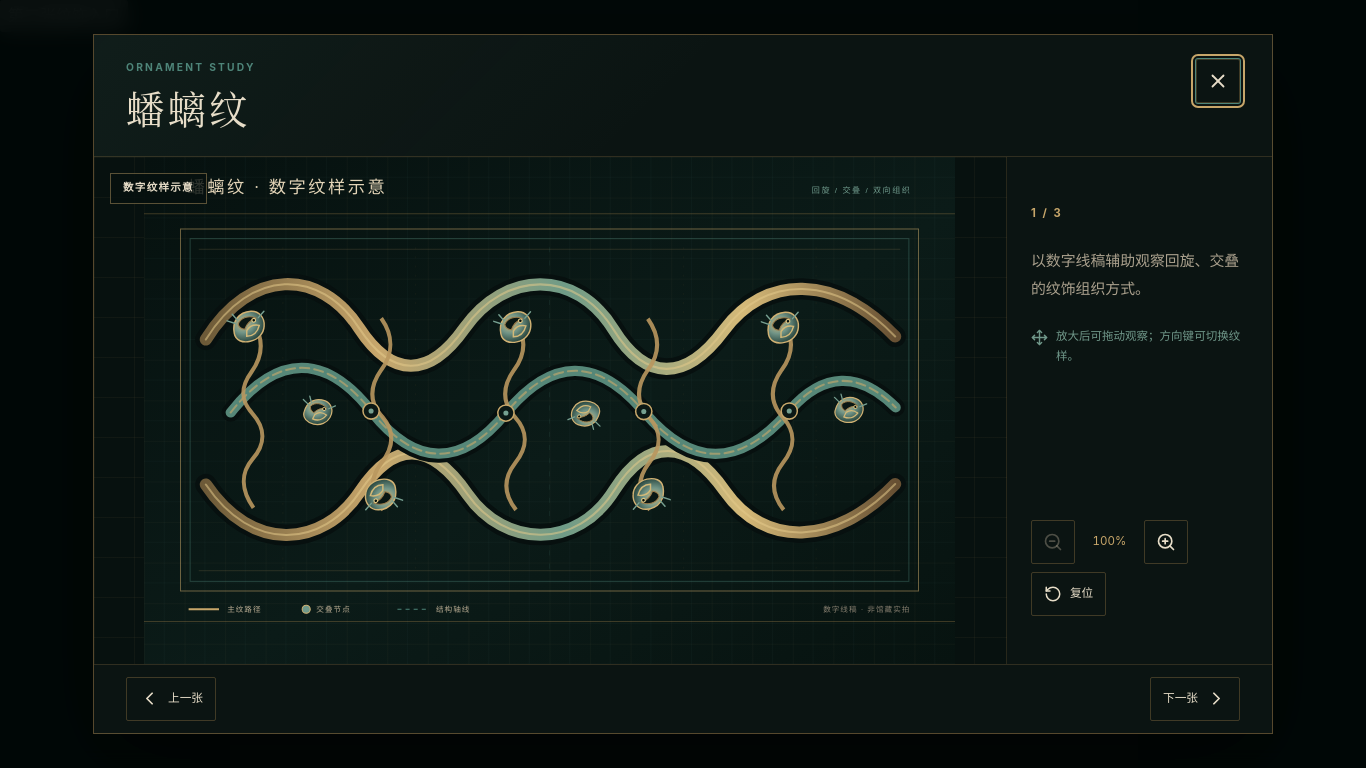
Test: OrnamentLightbox › closes from its close button and restores the exact opener
This screenshot has width=1366, height=768.
Click the button named "关闭纹饰细节" at (1218, 81), box [1196, 59, 1240, 103]
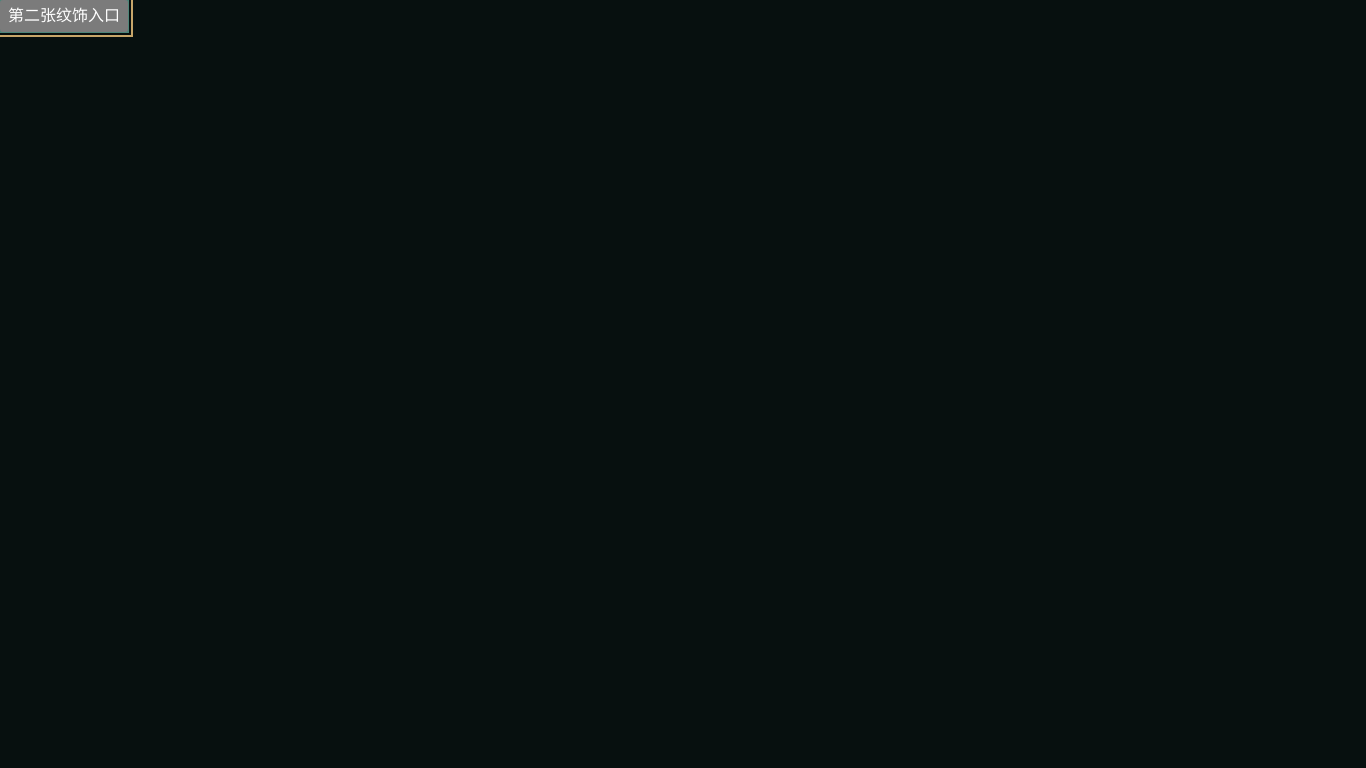
Check: the dialog is gone
